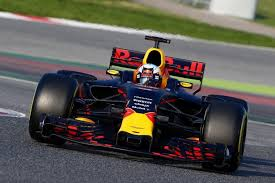FormulaOneCar: (25, 30, 256, 177)
